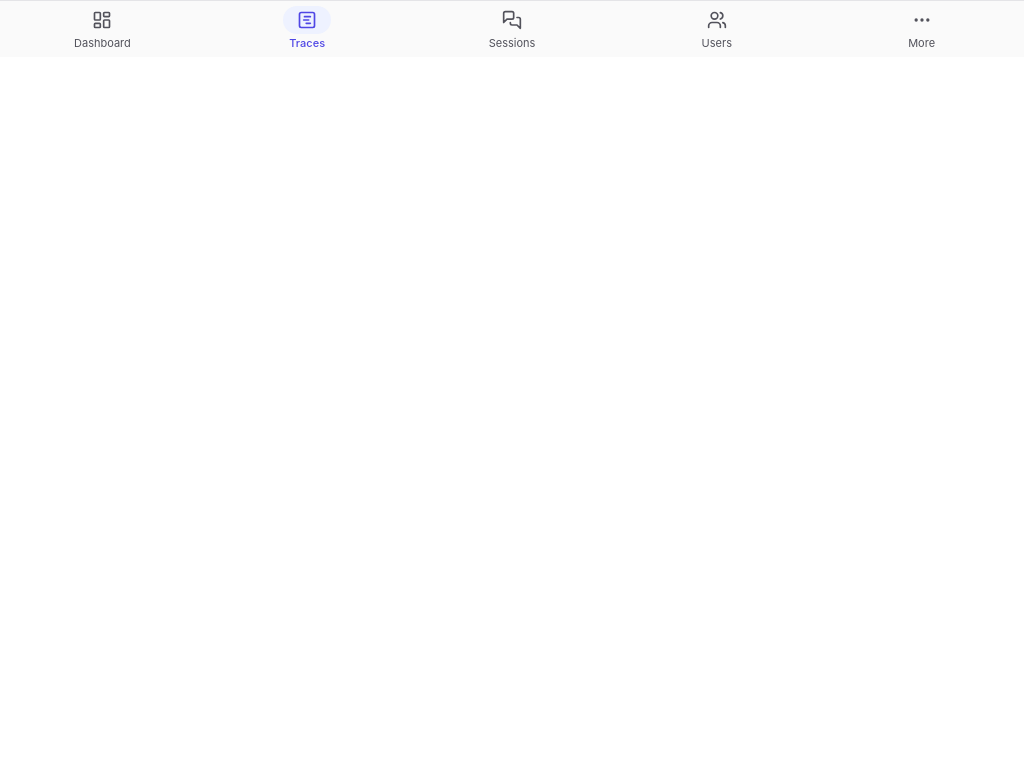
Scenario: on a phone › closes the sheet on the tap of a link, not when the screen arrives
Click the button "More" at (922, 29), box [819,1,1023,57]
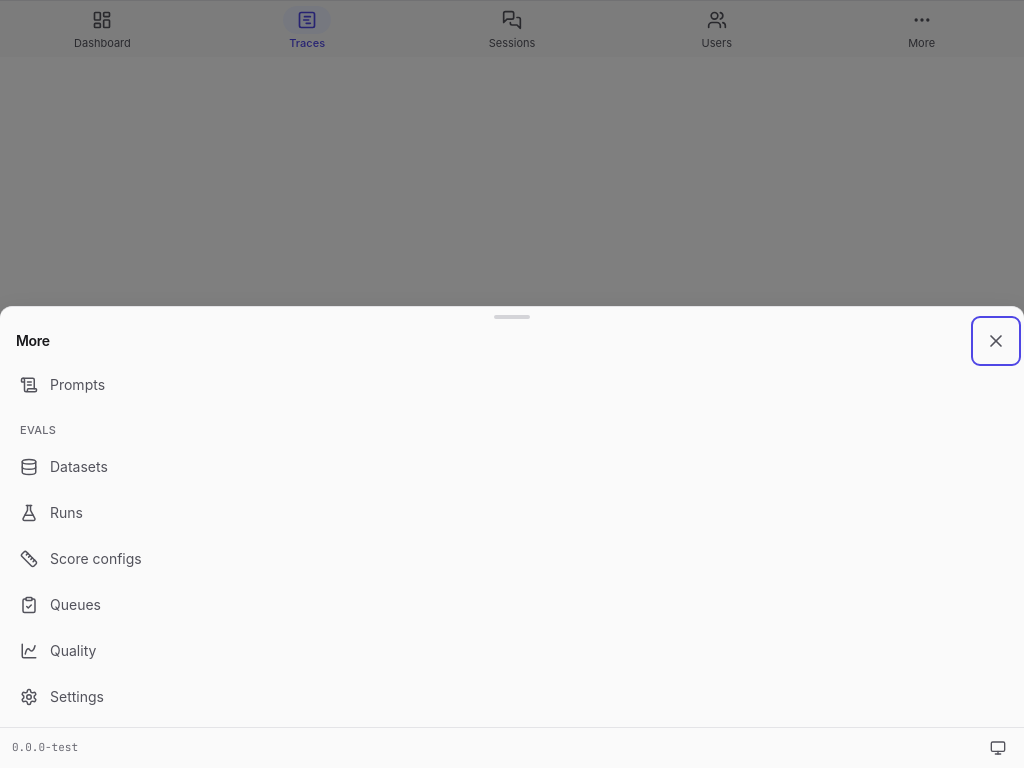
Click the link "Queues" at (60, 605), box [20,596,101,614]
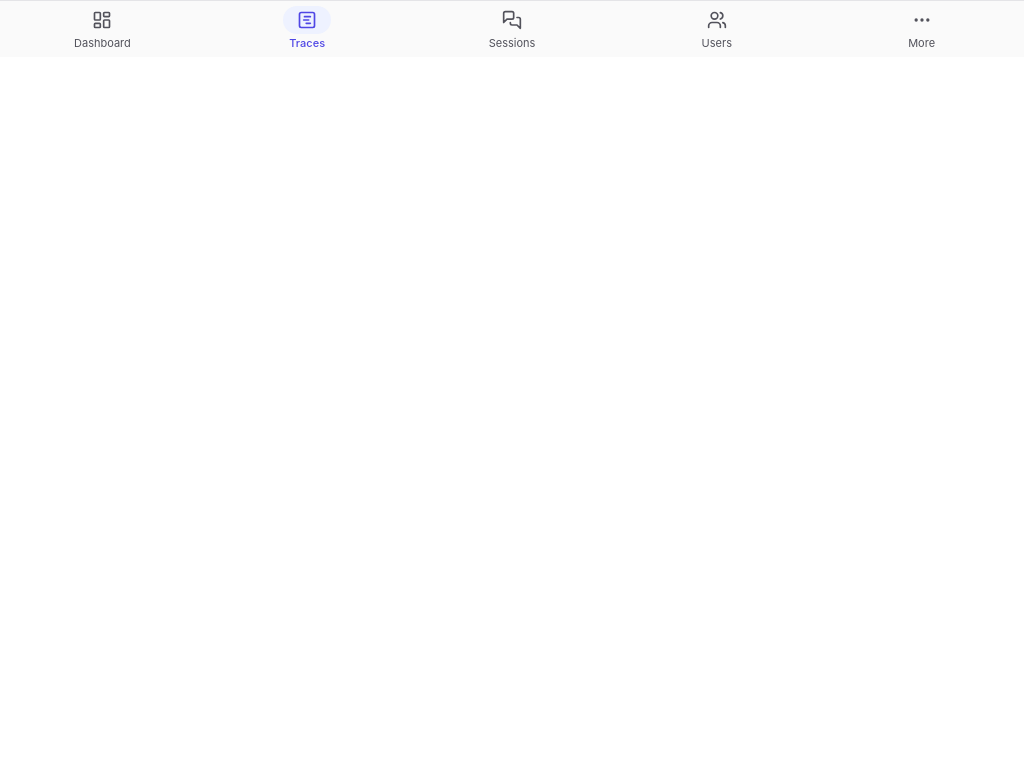
Result: the dialog is gone
